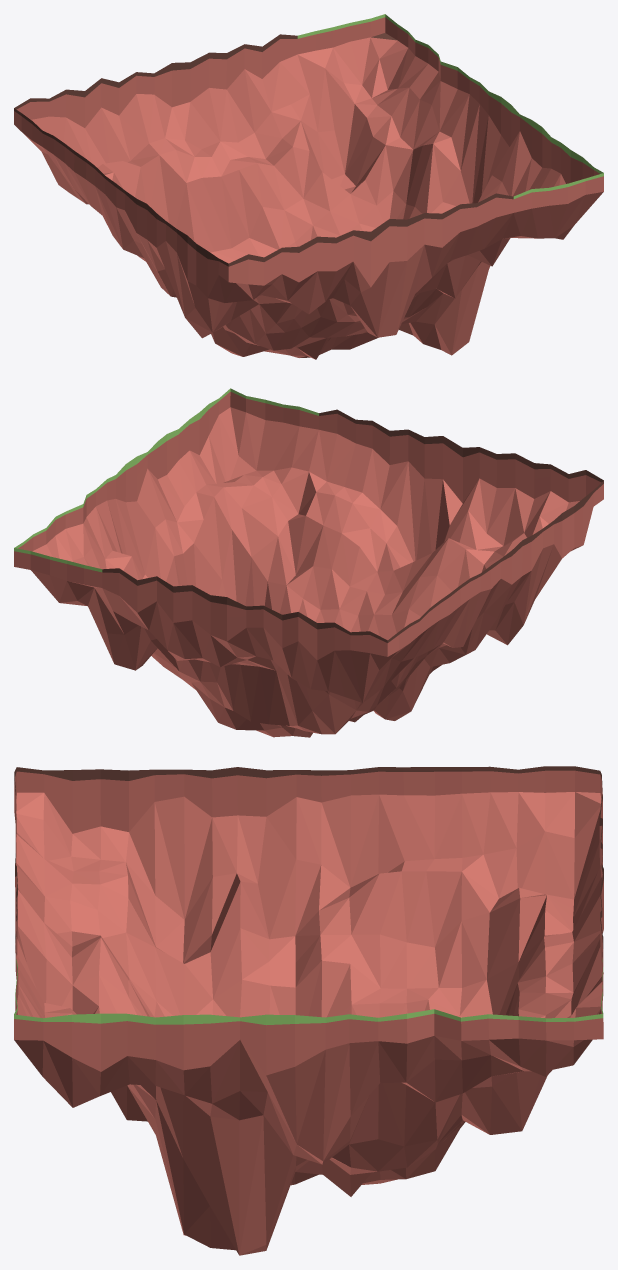
File: agri-biome-bottom.glb
3 views of the same model, one above another, from view 1: azimuth 30°, elevation 25°; view 2: azimuth 150°, elevation 25°; view 3: azimuth 270°, elevation 25° (orthographic). The views are drawn at different scales.
Visible parts, largest first — view 1: SOIL-BOTTOM; view 2: SOIL-BOTTOM; view 3: SOIL-BOTTOM.
Part boxes in pixels (x1,y1,x2,y2): SOIL-BOTTOM: (14, 14, 603, 359); SOIL-BOTTOM: (14, 388, 603, 737); SOIL-BOTTOM: (14, 766, 603, 1255).
Bounding box in the file's own units: 2.01 × 1.1 × 2.02.
